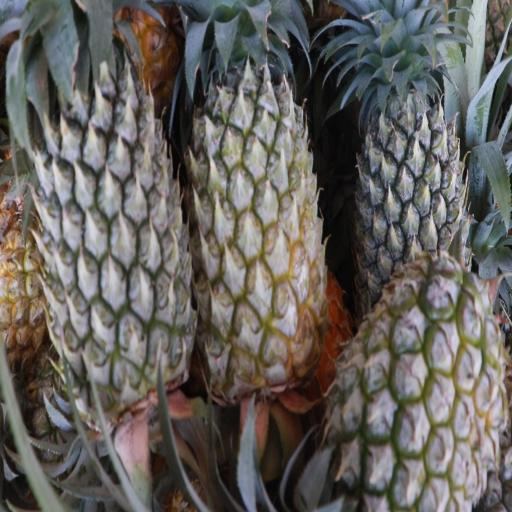------------------------------: (188, 28, 322, 395), (338, 264, 508, 508)
Pineapple - v8 v1: (0, 223, 52, 356)
